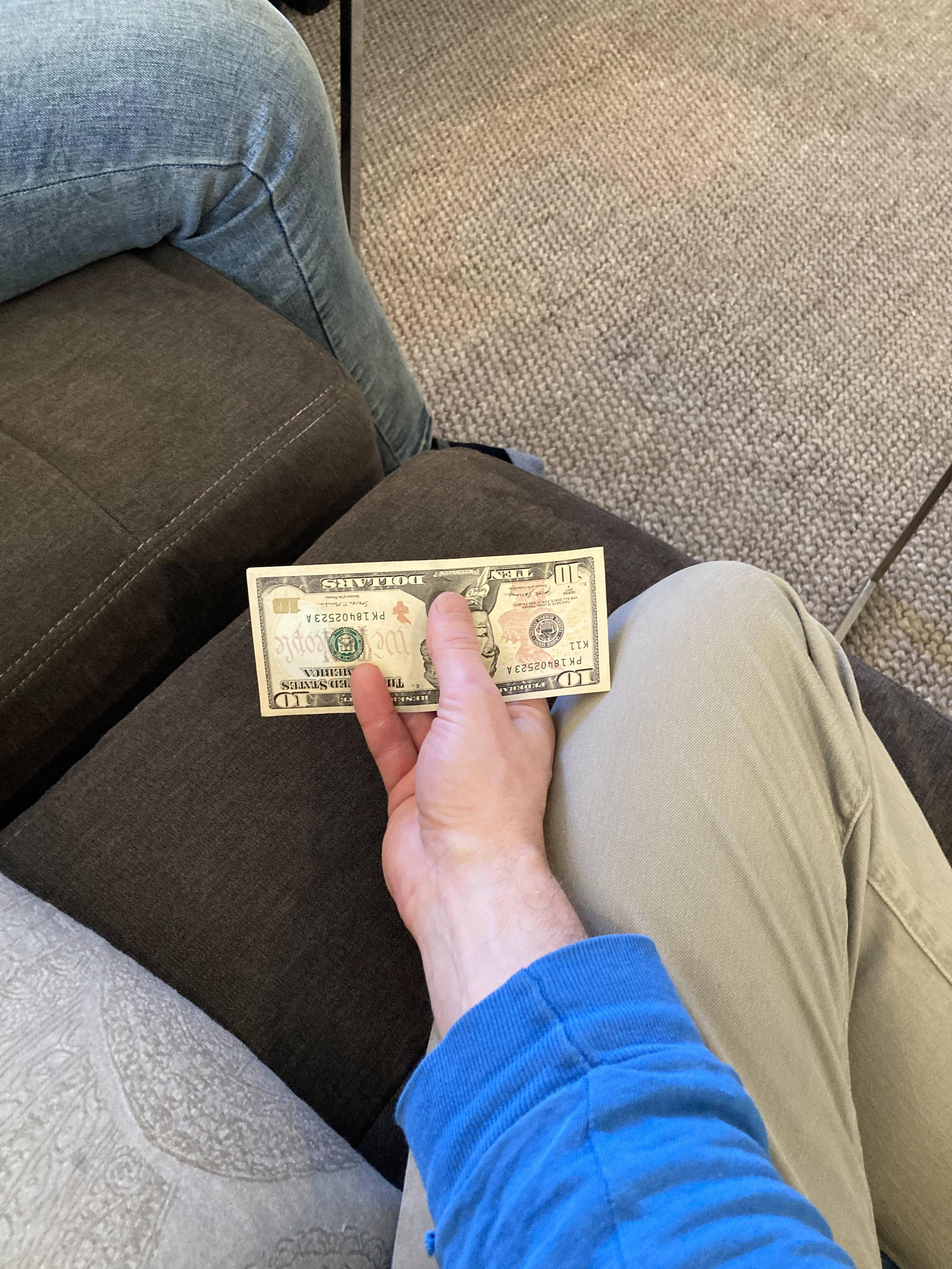ten-front: (246, 545, 612, 720)
